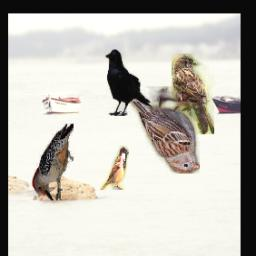Crow: (104, 49, 153, 117)
Sparrow: (127, 87, 200, 175), (172, 54, 215, 134), (100, 146, 129, 190)
Woodpecker: (32, 124, 74, 200)
